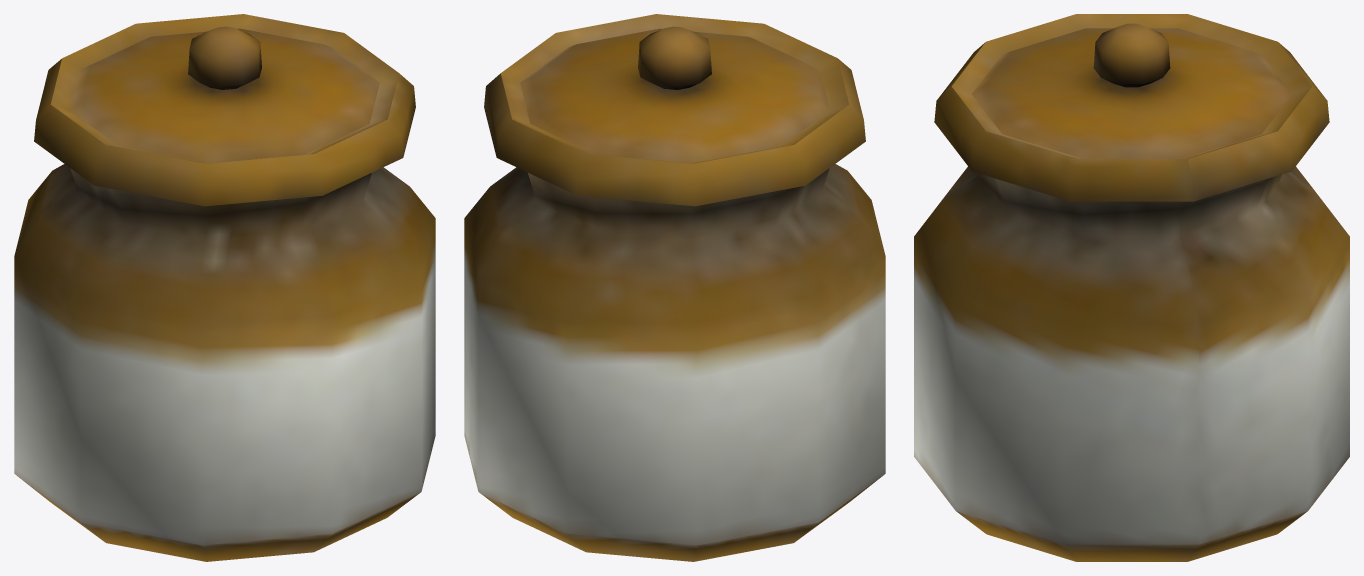
File: GlassJar_T02.FBX
3 renders of one model, left to right at view 1: azimuth 30°, elevation 25°; view 2: azimuth 150°, elevation 25°; view 3: azimuth 270°, elevation 25°, orthographic.
Parts seen in each view (by area): view 1: GlassJar_T02; view 2: GlassJar_T02; view 3: GlassJar_T02.
Boxes of the visible parts, x1,y1,x2,y2 form: GlassJar_T02: (14,14,435,561); GlassJar_T02: (464,14,885,561); GlassJar_T02: (914,14,1349,561).
Size of the model in its own units: 11.46 by 14.04 by 12.05.
